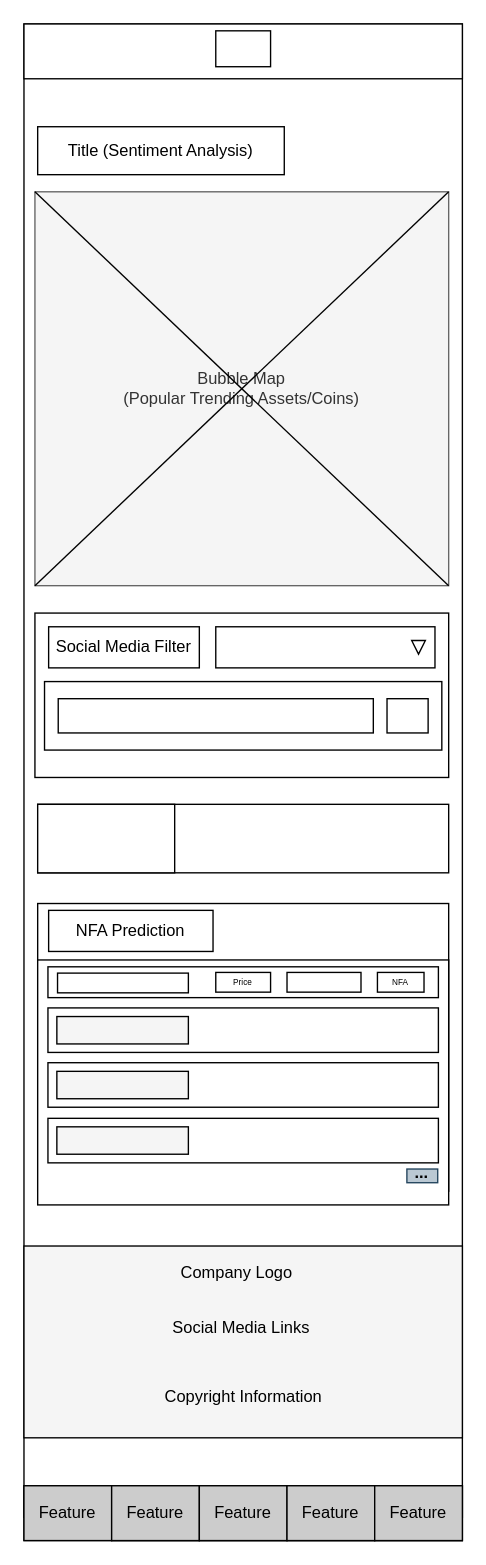
The diagram is 486 pixels wide and 1565 high, and some of its shapes have lost their labels. Here are the shapes that lost their labels. From the top down, the box of each, then its label:
(214, 29, 271, 67): LOGO
(57, 697, 373, 733): Search
(386, 697, 428, 733): GO
(36, 803, 175, 873): Portfolio NFA
(56, 972, 188, 993): Asset Title
(286, 971, 361, 992): 24 hour Change
